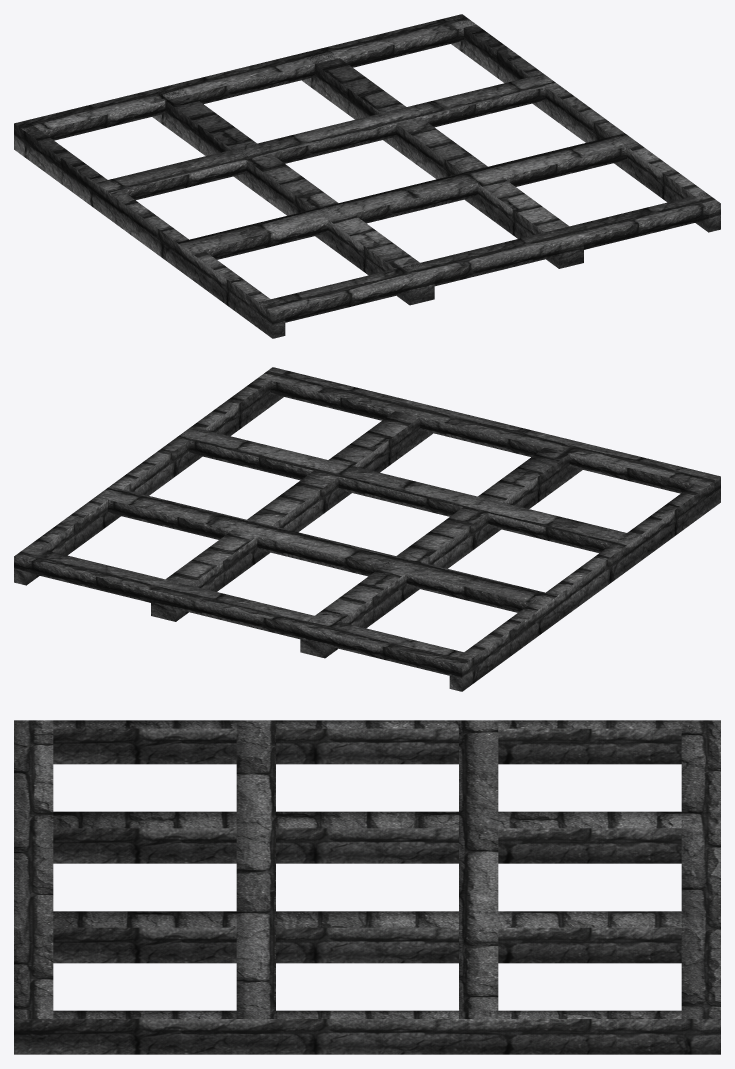
The model's file is stone decorations2.glb.
3 renders of one model, top to bottom at view 1: azimuth 30°, elevation 25°; view 2: azimuth 150°, elevation 25°; view 3: azimuth 270°, elevation 25°, orthographic. The views are drawn at different scales.
Visible parts, largest first — view 1: Ceiling Beams, 9 x 9; view 2: Ceiling Beams, 9 x 9; view 3: Ceiling Beams, 9 x 9.
Boxes of the visible parts, left/top/right/bottom form: Ceiling Beams, 9 x 9: left=14, top=14, right=720, bottom=338; Ceiling Beams, 9 x 9: left=14, top=367, right=720, bottom=691; Ceiling Beams, 9 x 9: left=14, top=720, right=720, bottom=1054.
Bounding box in the file's own units: 2.74 × 0.1524 × 2.74.
1 material, 1 textured.
